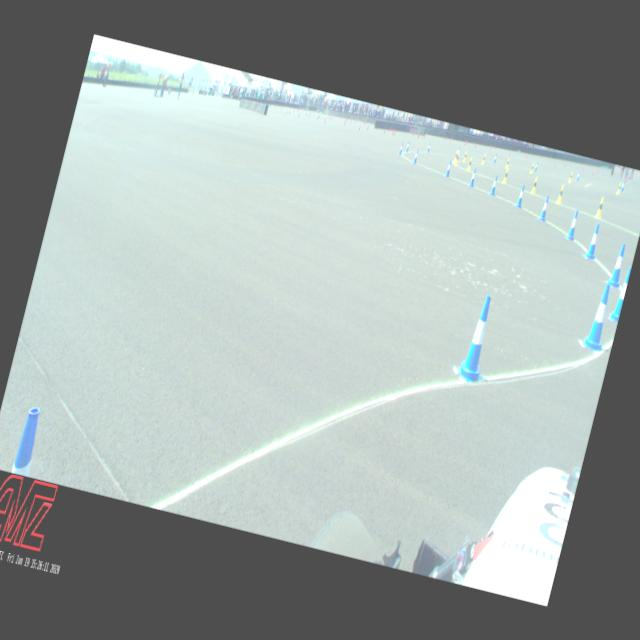blue_cone: (454, 292, 502, 383), (582, 280, 617, 350), (11, 405, 45, 476), (610, 266, 630, 321), (607, 243, 628, 287), (585, 224, 602, 258), (565, 210, 580, 240), (538, 195, 550, 221), (515, 184, 526, 208), (489, 174, 498, 194), (468, 168, 476, 186), (445, 160, 452, 176), (412, 148, 418, 162), (398, 142, 404, 154), (405, 140, 410, 152), (426, 142, 431, 152), (620, 180, 624, 191), (576, 170, 580, 180), (493, 154, 497, 162), (534, 162, 538, 170), (456, 147, 459, 156)
unknown_cone: (583, 163, 586, 170)
yellow_cone: (594, 196, 606, 218), (556, 184, 564, 203), (530, 176, 538, 194), (502, 168, 509, 184), (616, 182, 622, 194), (467, 157, 472, 170), (455, 152, 460, 164), (453, 150, 458, 162), (462, 151, 467, 161), (482, 152, 486, 164), (505, 157, 509, 168), (530, 162, 534, 172), (568, 172, 572, 182)
